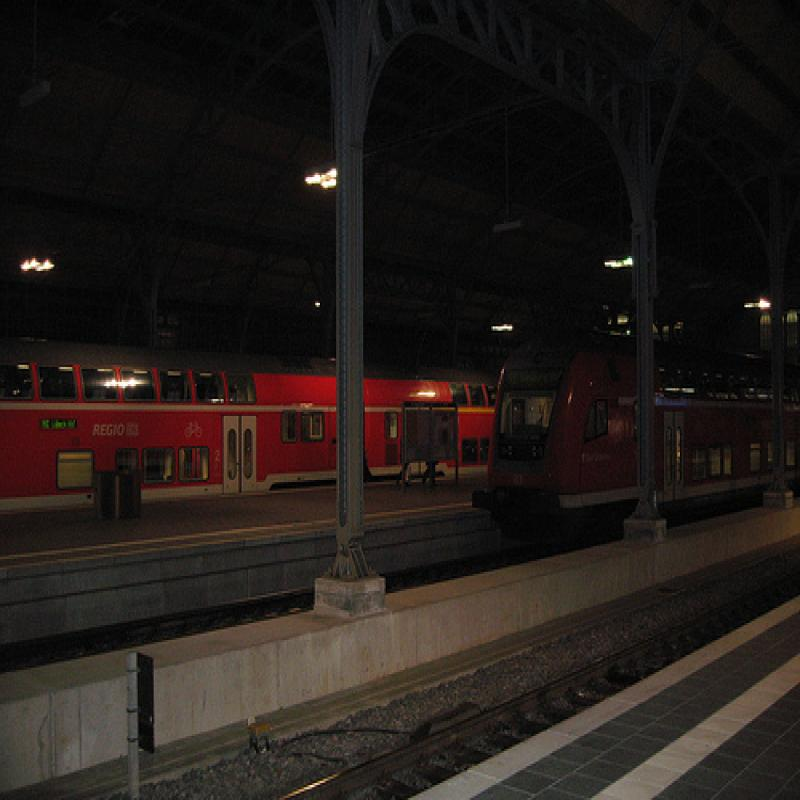train: (3, 362, 505, 532), (478, 336, 799, 573)
